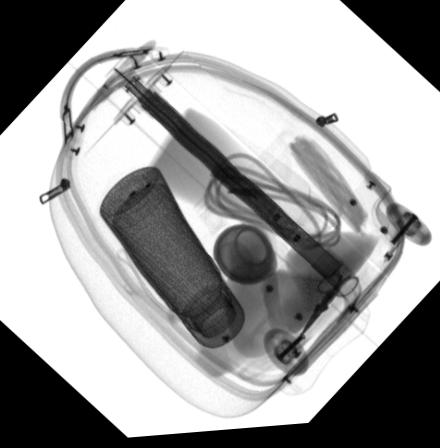Scissors: (294, 274, 363, 339)
